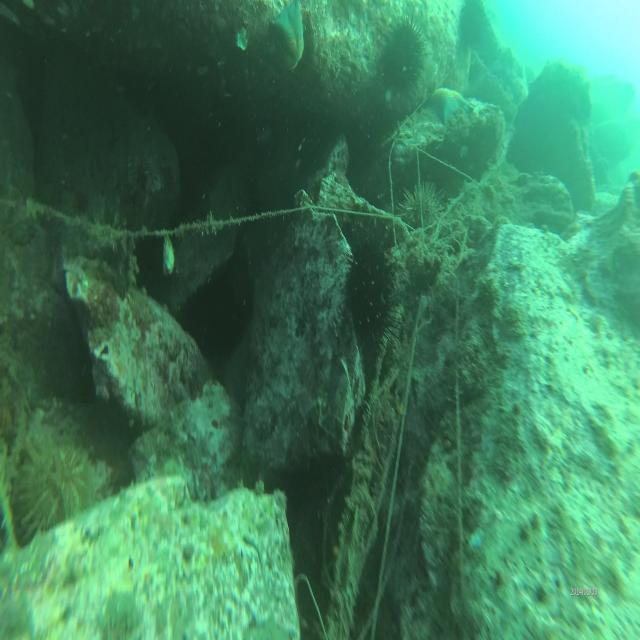echinus: (18, 430, 94, 536), (348, 247, 397, 340), (377, 18, 425, 96), (398, 183, 444, 239), (456, 1, 488, 49)
starfish: (270, 0, 305, 75)
